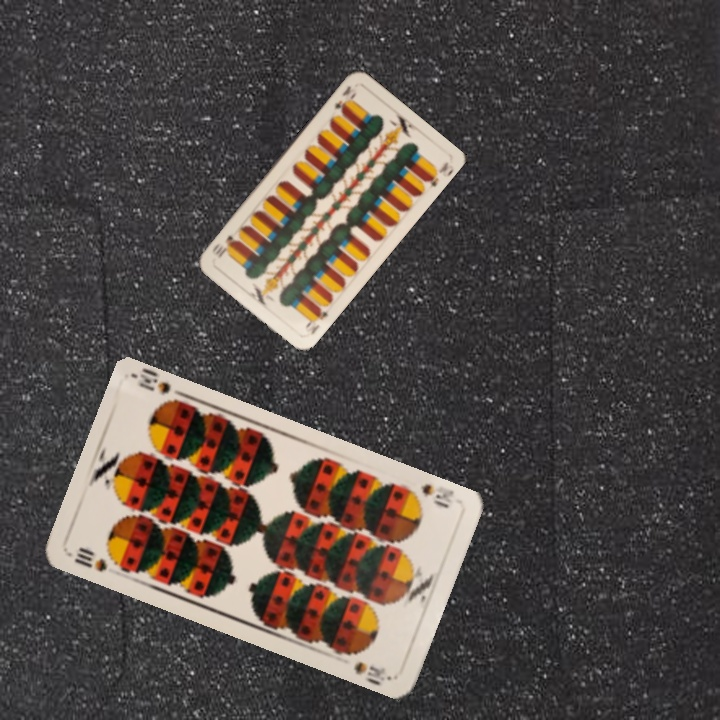E10: (301, 304, 331, 337), (330, 81, 359, 115)
S10: (402, 480, 457, 511), (70, 543, 110, 575)
